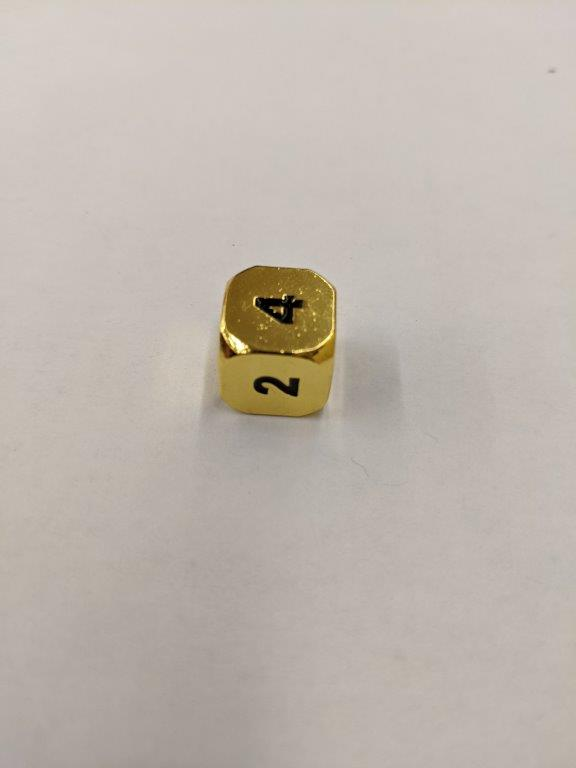d6-4: (215, 266, 340, 419)
